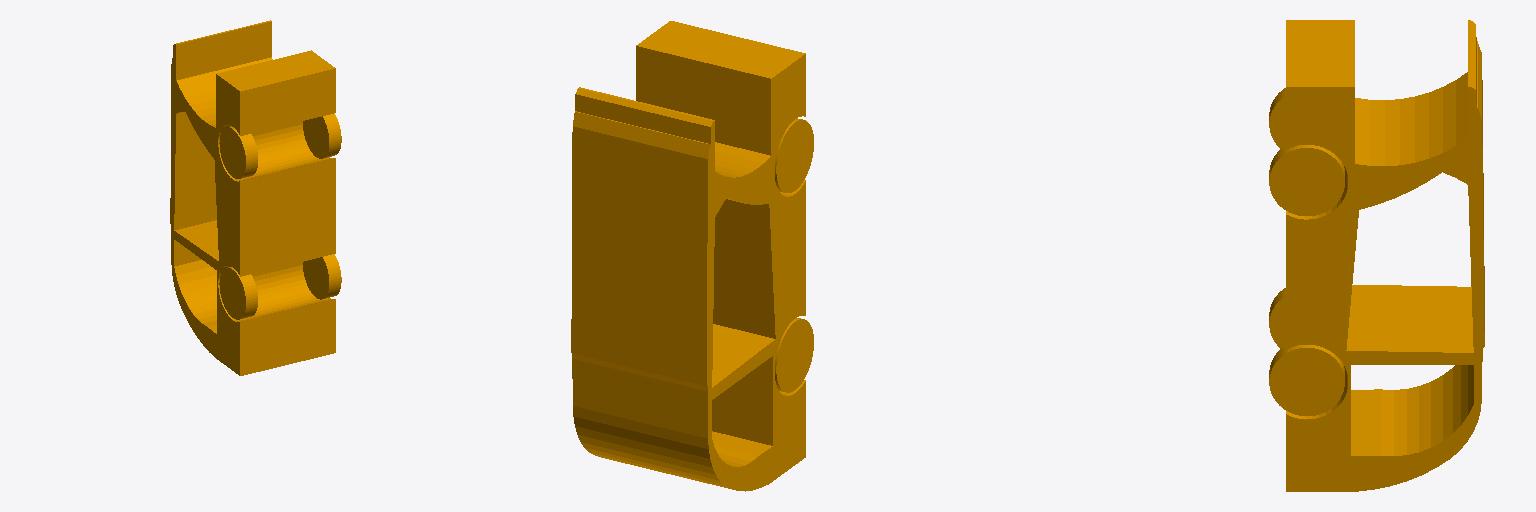
robot.urdf — sdv:
<?xml version="1.0"?>
<robot name="sdv">
  <link name="base_link">
    <visual>
      <origin rpy="0 0 0" xyz="0.15 0 0.35"/>
      <geometry>
        <mesh filename="package://sdv_localization/mesh/sdv.stl" scale="1.0 1.0 1.0"/>
      </geometry>
    </visual>
  </link>

  <joint name="base_link_to_base_laser_joint" type="fixed">
    <parent link="base_link"/>
    <child link="base_laser"/>
    <origin xyz="0 0 1.0"/>
  </joint>

  <link name="base_laser">
    <visual>
      <origin rpy="0 0 0" xyz="0 0 0"/>
      <geometry>
        <cylinder length="0.6" radius="0.2"/>
      </geometry>
    </visual>
  </link>
</robot>

--- What the picture shows (computed from the rendered views, not written in the file) ---
The picture shows the robot from 3 angles, left to right: view 1: azimuth 30°, elevation 25°; view 2: azimuth 150°, elevation 25°; view 3: azimuth 270°, elevation 25°; orthographic projection.
Model sdv with 2 links and 1 joints (1 fixed), rooted at base_link, posed all joints at 0.
Visible links, largest first — view 1: base_link; view 2: base_link; view 3: base_link.
Link boxes in pixels (bbox=[...]): base_link: bbox=[170, 20, 341, 375]; base_link: bbox=[571, 21, 813, 491]; base_link: bbox=[1269, 20, 1484, 491].
Bounding box of the posed robot: 2082 × 3890 × 5016 m (x, y, z).
1 mesh visuals loaded from 1 distinct referenced files (1 binary STL).